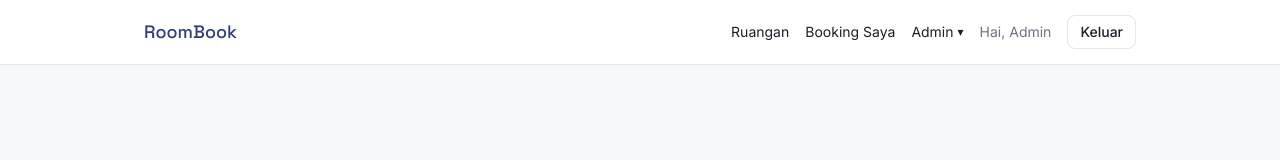
Test case: Navbar › dropdown admin › membuka menu berisi dua item saat tombol diklik
This screenshot has width=1280, height=160.
Click the button "Admin ▾".
click(938, 32)  # box [911,22,964,42]
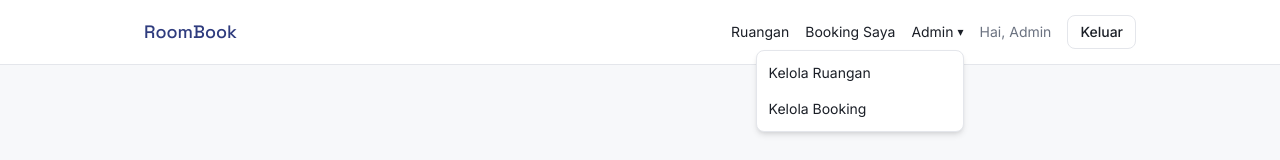
Expected: the menu item "Kelola Ruangan" is shown, [769,64,871,81]
Expected: the menu item "Kelola Booking" is shown, [769,100,866,117]
